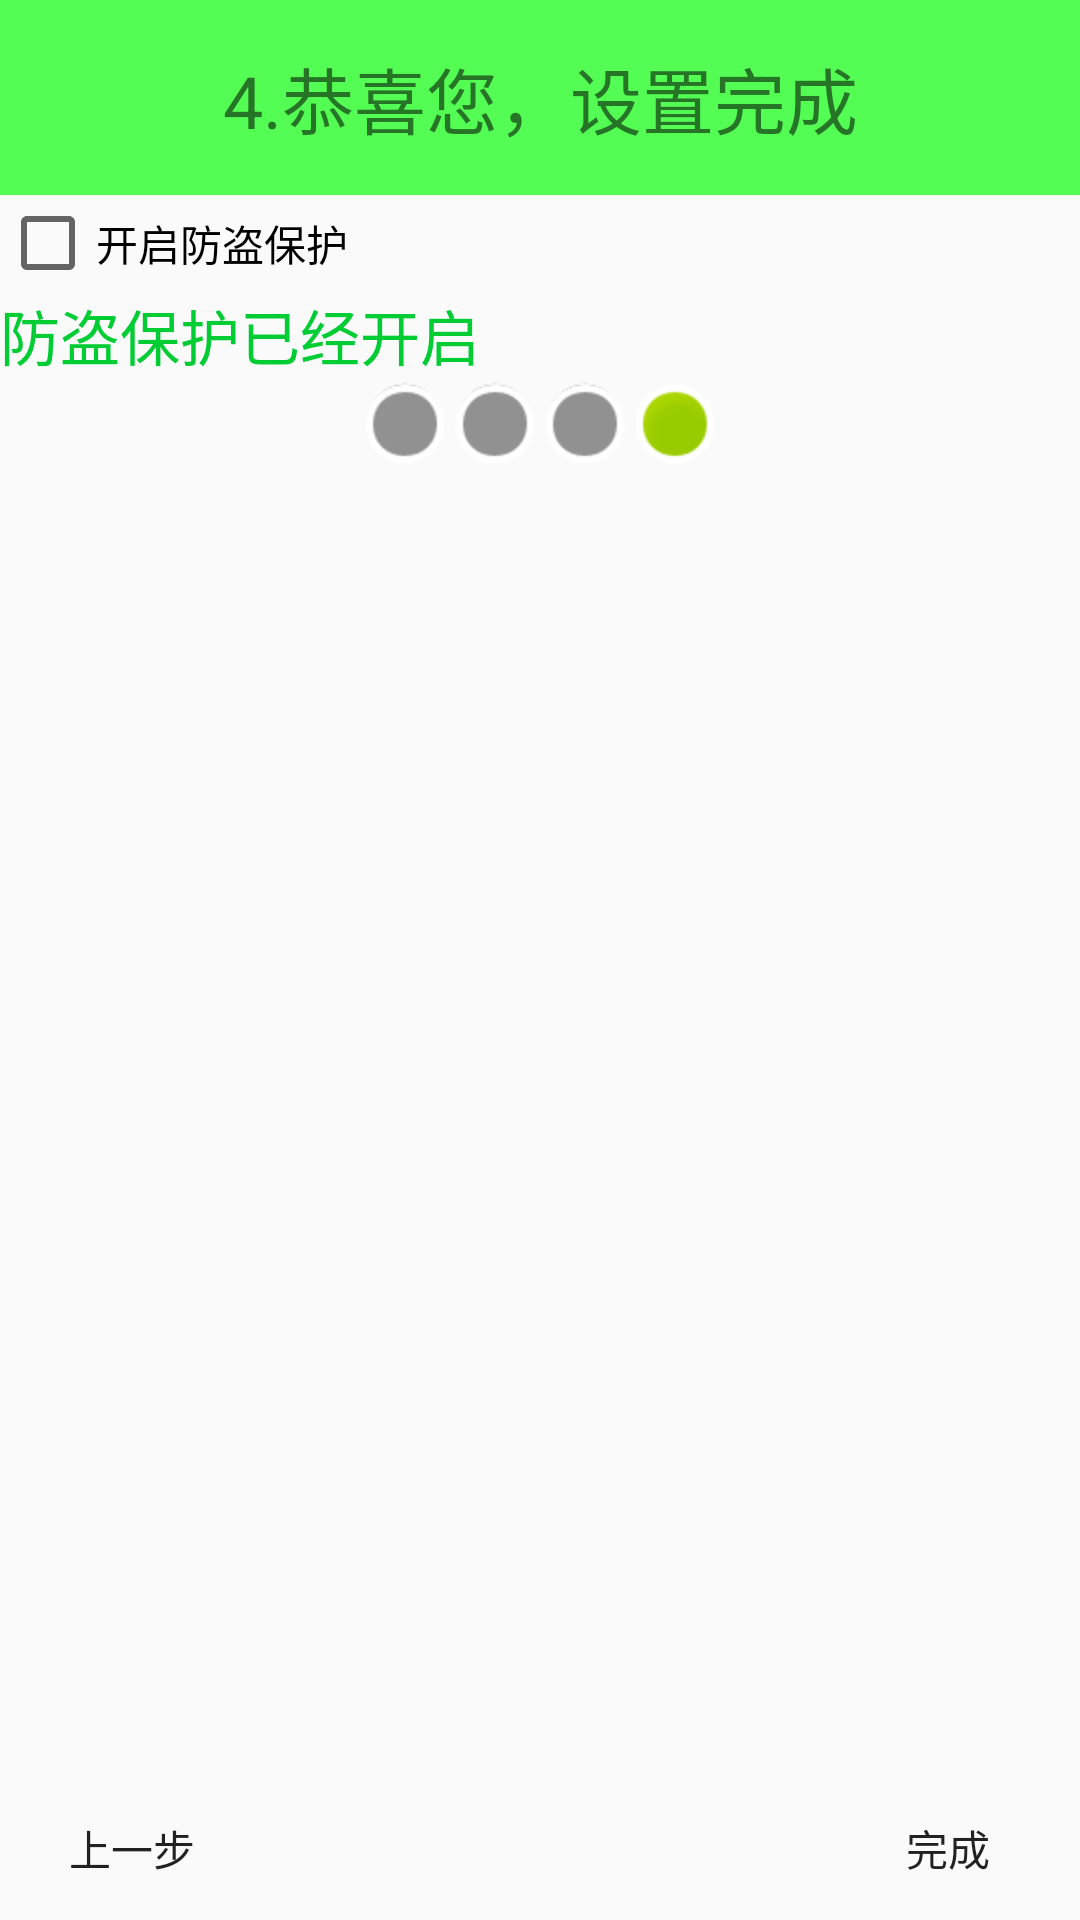

Screen size 1080w x 1920h. Icon name, then its box in pixels as (x1, y1, x2, y2):
presence invisible: (373, 385, 437, 456), (463, 385, 527, 456), (553, 385, 617, 456)
presence online: (642, 391, 708, 457)
